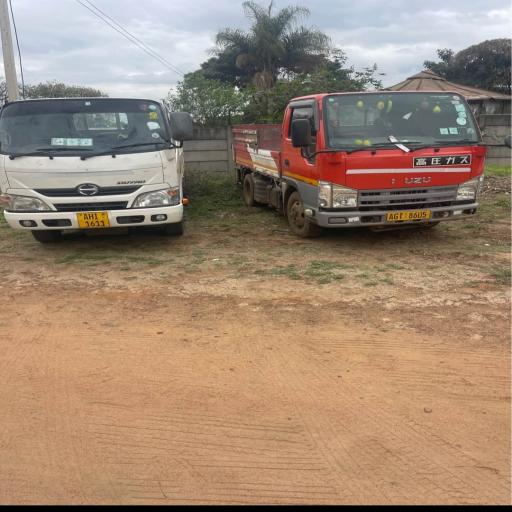number-plates: (76, 211, 111, 229), (389, 210, 431, 221)
